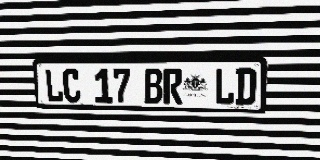1: (93, 68, 113, 103)
7: (112, 68, 131, 103)
B: (144, 68, 163, 104)
C: (62, 69, 81, 103)
D: (235, 68, 257, 105)
L: (214, 68, 235, 105), (44, 69, 64, 102)
R: (163, 68, 182, 104)
